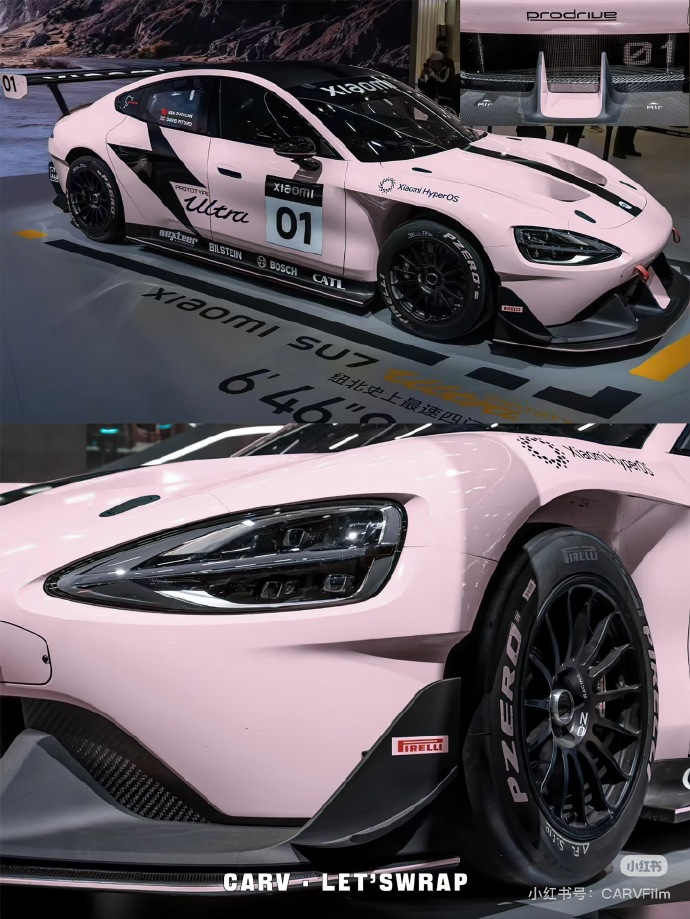su7: (3, 49, 690, 355)
